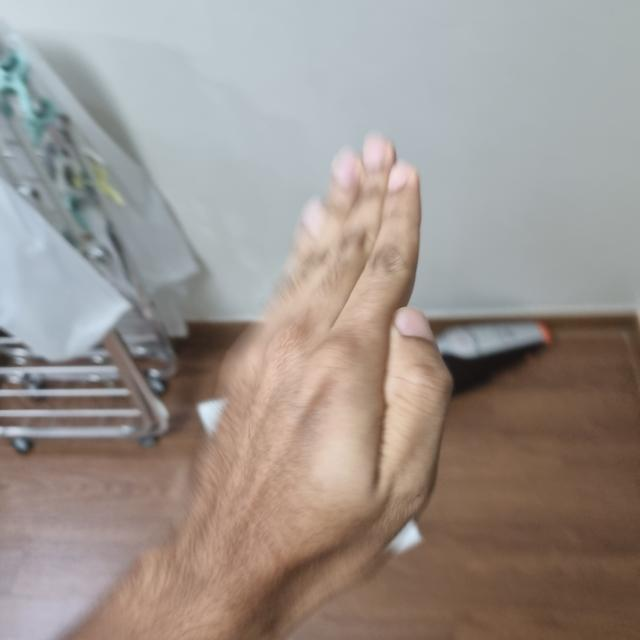Paper: (203, 141, 446, 584)
